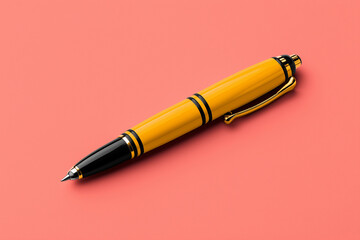pen: (52, 41, 317, 189)
